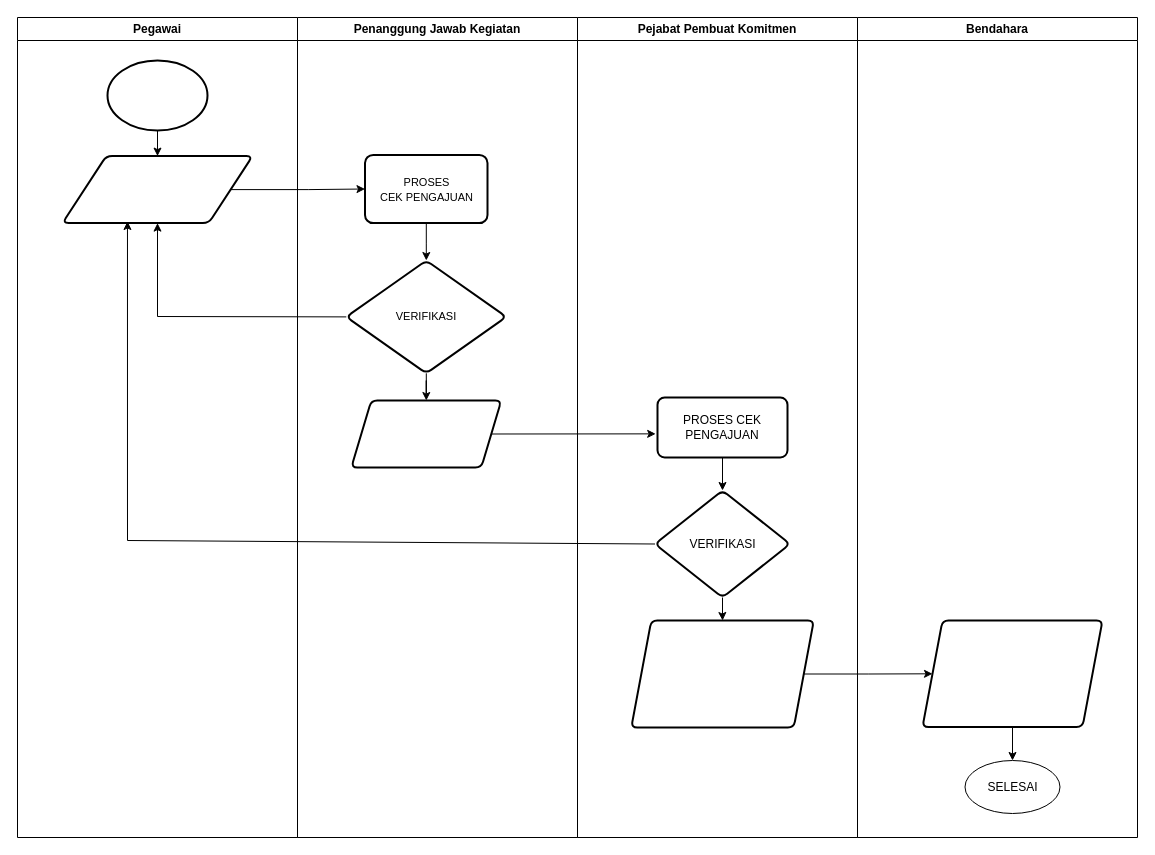
This 1155x855 diagram has some shape labels left out. Here are the shapes that lost their labels. From the top down, the centre of each, then its label:
the point at 157,95: MULAI
the point at 157,189: PENGAJUAN PERJALANAN DINAS
the point at 426,433: PILIH MATA ANGGARAN
the point at 722,673: PILIH BENDAHARA & TERBITKAN NOMOR SURAT TUGAS
the point at 1012,673: PENERBITAN BERKAS CETAK KWITANSI, CETAK SURAT TUGAS
